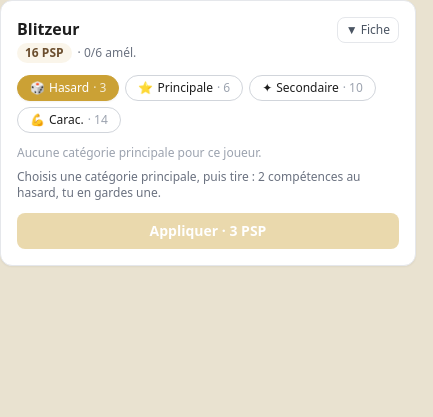
Test: AdvancementEditor › affiche la fiche (caractéristiques + compétences) via le toggle
Expected: the text "Blitzeur" is shown, left=17, top=18, right=80, bottom=40
Click the button with test id "level-up-toggle-sheet-sheet1".
click(368, 30)  # box left=337, top=17, right=399, bottom=43
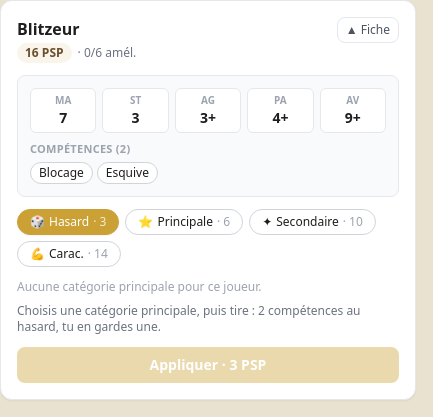
Result: the element with test id "level-up-sheet-sheet1" shows "7" at left=59, top=108, right=67, bottom=127
Result: the element with test id "level-up-sheet-sheet1" shows "3+" at left=200, top=108, right=216, bottom=127
Result: the element with test id "level-up-sheet-sheet1" shows "Blocage" at left=39, top=164, right=84, bottom=180
